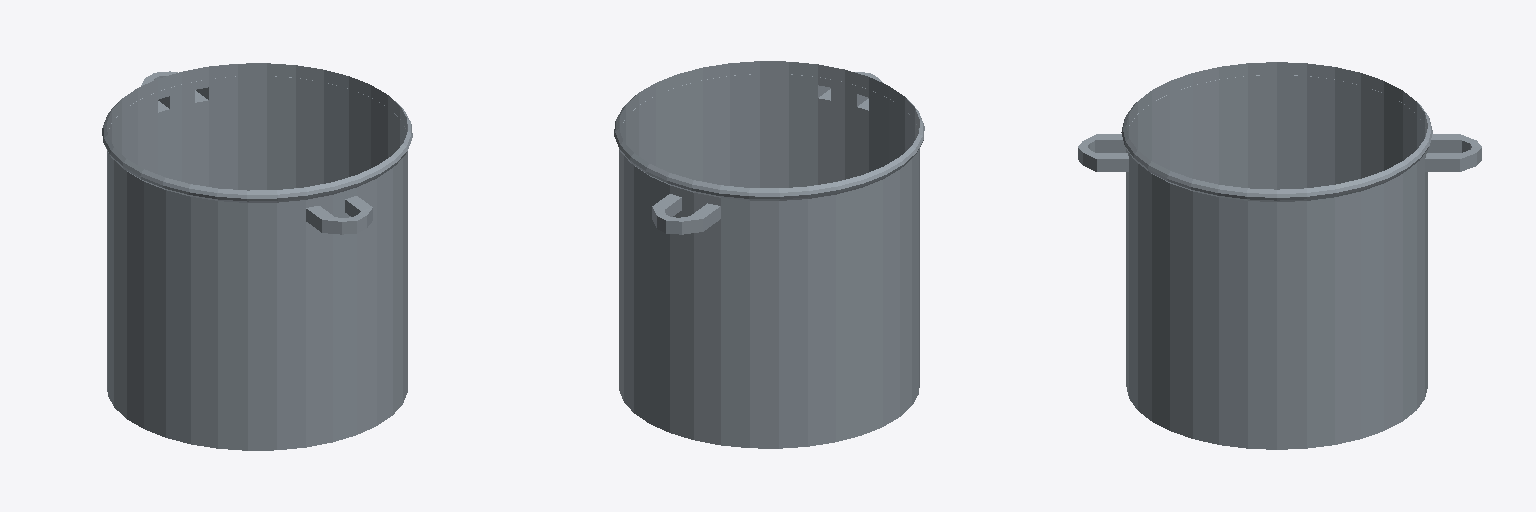
3 renders of one model, left to right at view 1: azimuth 30°, elevation 25°; view 2: azimuth 150°, elevation 25°; view 3: azimuth 270°, elevation 25°, orthographic.
Parts seen in each view (by area): view 1: Cylinder.003; view 2: Cylinder.003; view 3: Cylinder.003.
Boxes of the visible parts, <box> form: Cylinder.003: <box>102,63,412,450</box>; Cylinder.003: <box>614,61,924,448</box>; Cylinder.003: <box>1078,62,1481,449</box>.
Size of the model in its own units: 1.19 by 1.1 by 1.55.
1 materials, 1 textured.